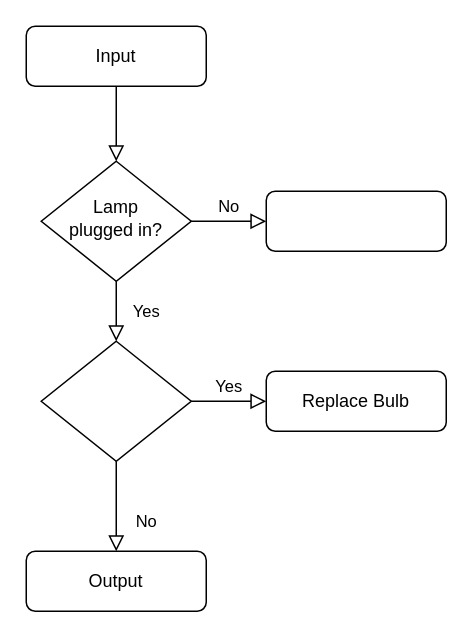
The diagram is 473 pixels wide and 638 high, and some of its shapes have lost their labels. The box of each missing label's shape, as (x1, y1, x2, y2) in pixels:
Bulb burned out?: (40, 340, 191, 461)
Plug in lamp: (265, 190, 446, 251)
